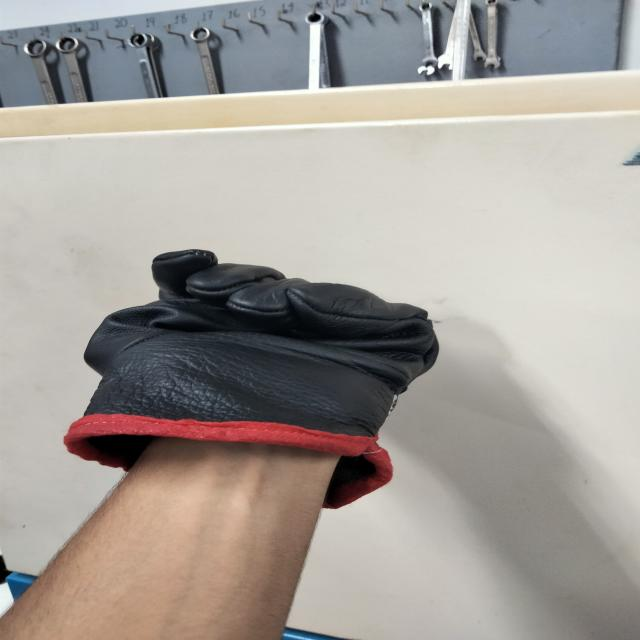Gloves: (36, 251, 477, 489)
